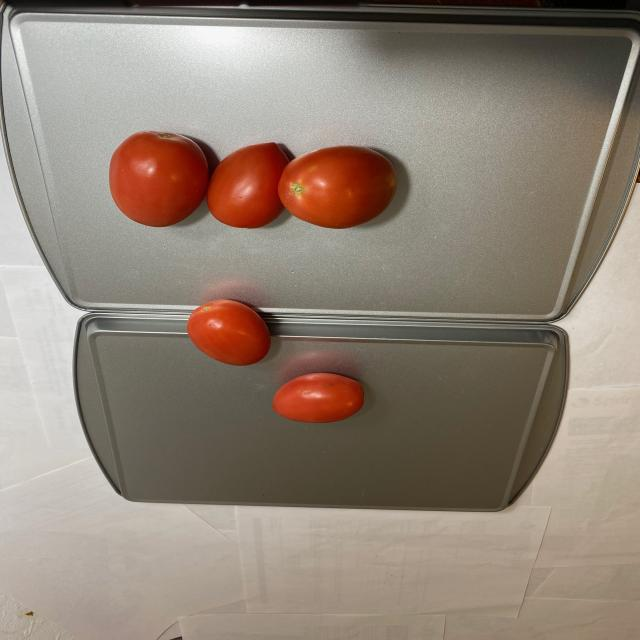tomato: (102, 130, 422, 232), (185, 298, 364, 422)
